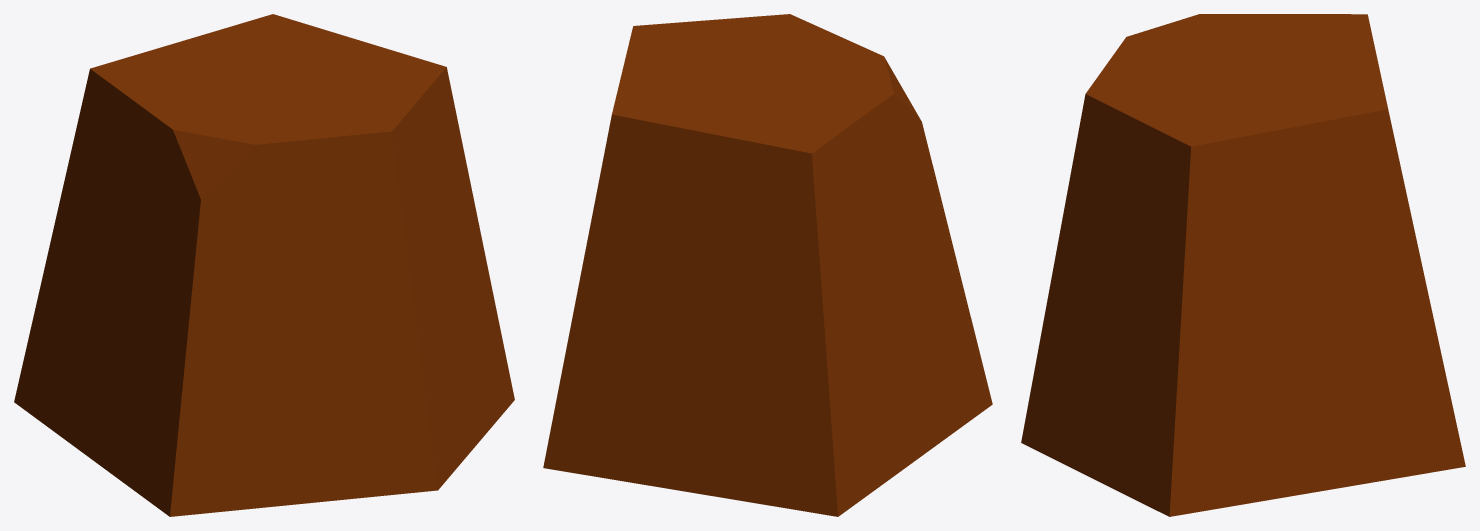
Rendered from stone_008.fbx.
3 views of the same model, side by side, from view 1: azimuth 30°, elevation 25°; view 2: azimuth 150°, elevation 25°; view 3: azimuth 270°, elevation 25° (orthographic). The views are drawn at different scales.
Visible parts, largest first — view 1: stone.008; view 2: stone.008; view 3: stone.008.
Part boxes in pixels (box(x1,y1,x2,y2)): stone.008: box(14, 14, 514, 516); stone.008: box(543, 14, 992, 516); stone.008: box(1021, 14, 1465, 516).
Size of the model in its own units: 56.58 by 48.41 by 57.06.
